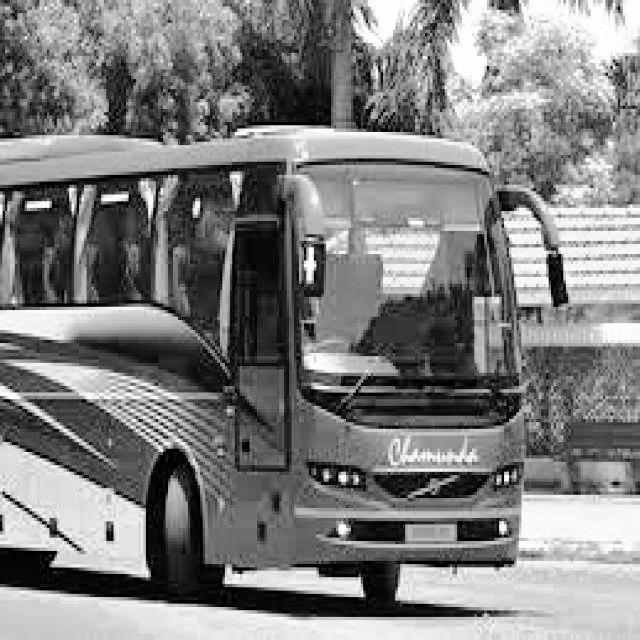Bus: (0, 97, 581, 609)
